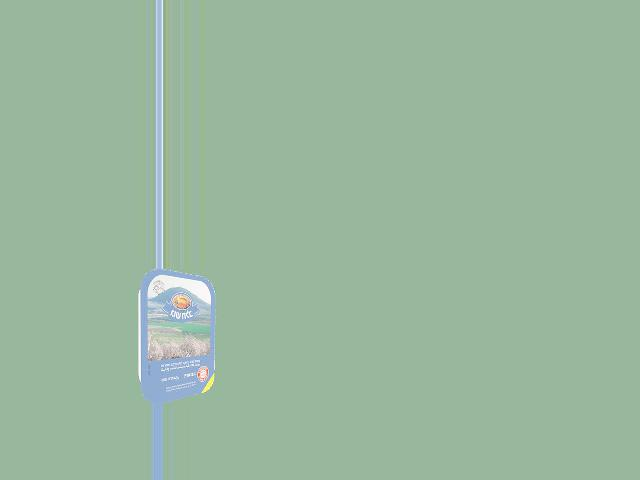cheese: (129, 278, 218, 389)
